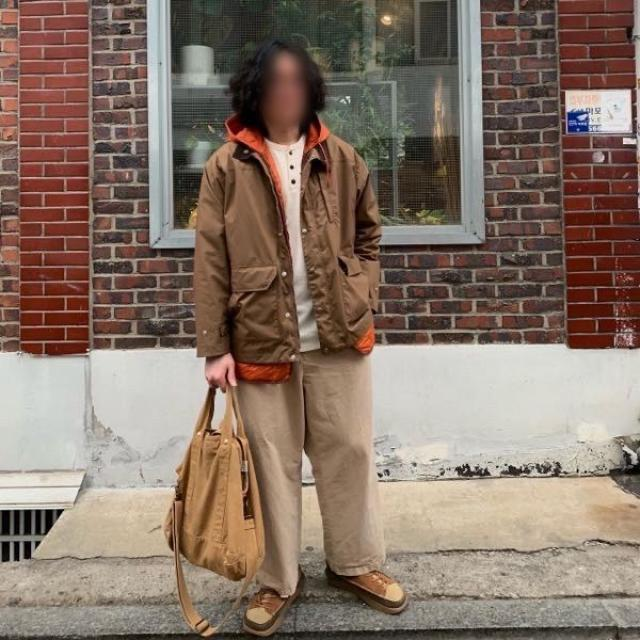cottonpants: (230, 340, 386, 592)
padding: (196, 127, 384, 367)
